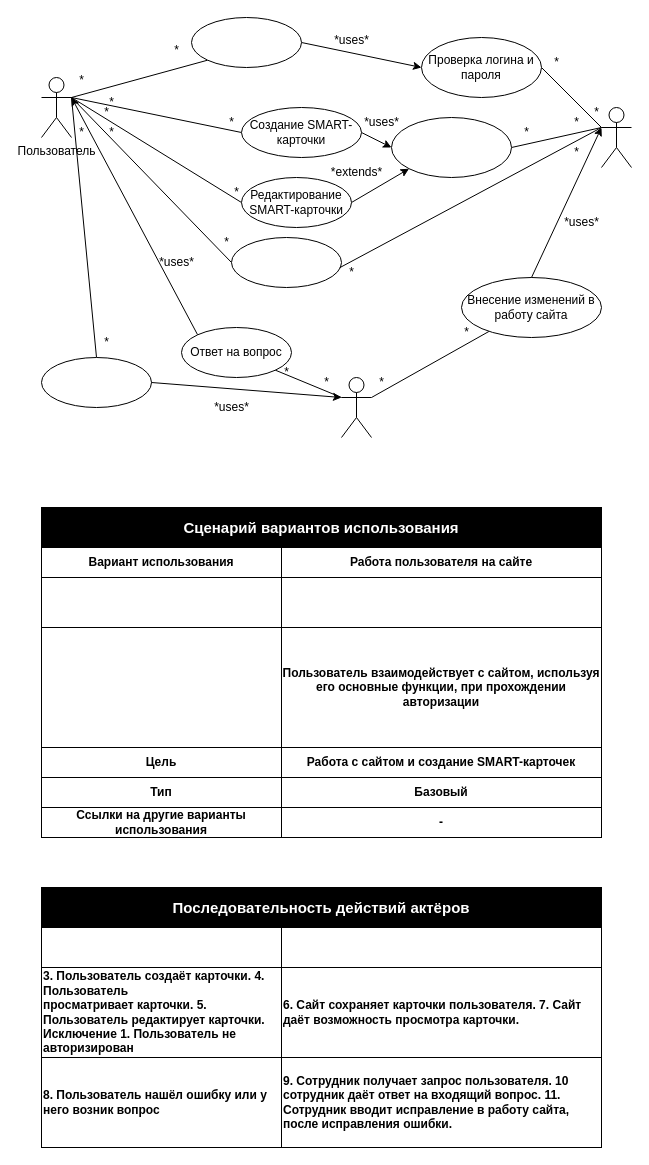
Image size: 649x1165. Some labels were removed from this diagram. Each missing label, with the centre of its shape:
"1. Пользователь заходит на сайт и авторизуется в нём" belongs at point (161, 947).
"2. Сайт получает данные для авторизации и регистрирует вход" belongs at point (441, 947).
"Авторизация" belongs at point (246, 42).
"Актёры" belongs at point (161, 602).
"Краткое описание" belongs at point (161, 687).
"Пользователь, сайт, сотрудник" belongs at point (441, 602).
"Проблемы или вопросы с работой сайта" belongs at point (96, 382).
"Просмотр SMART-карточки" belongs at point (286, 262).
"Сайт" belongs at point (616, 137).
"Сотрудник" belongs at point (356, 407).
"Сохранение карточки" belongs at point (451, 147).
